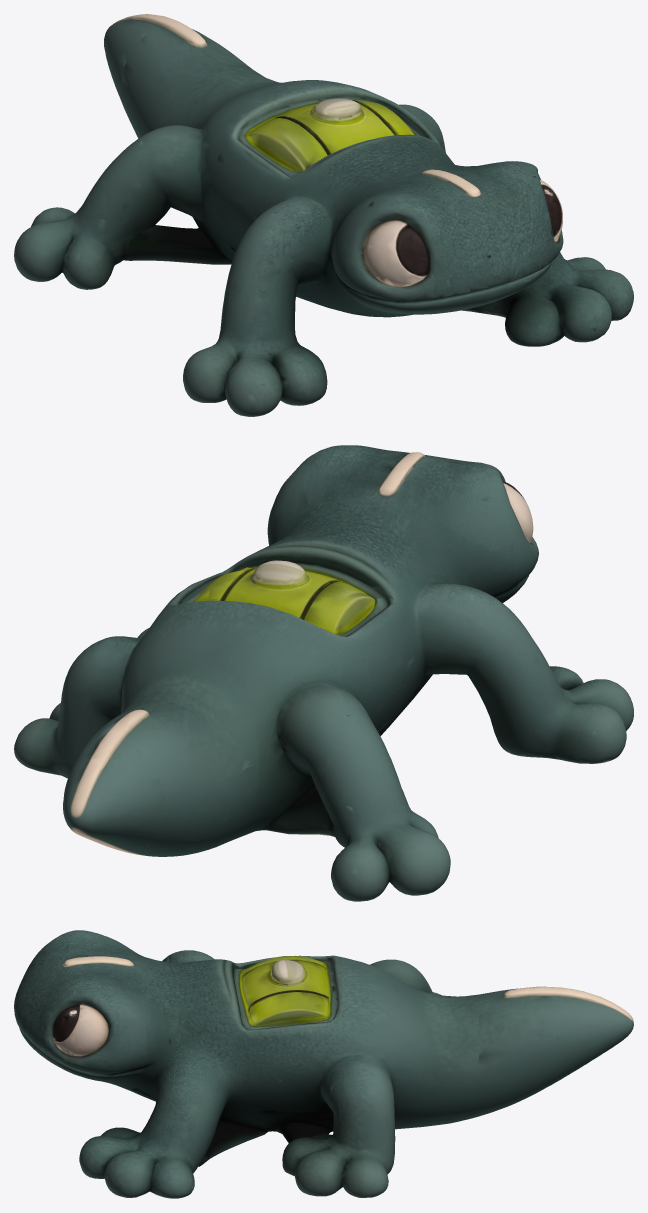
File: game.glb
3 renders of one model, top to bottom at view 1: azimuth 30°, elevation 25°; view 2: azimuth 150°, elevation 25°; view 3: azimuth 270°, elevation 25°, orthographic. The views are drawn at different scales.
Visible parts, largest first — view 1: Mesh_0; view 2: Mesh_0; view 3: Mesh_0.
Boxes of the visible parts, x1,y1,x2,y2 form: Mesh_0: (14, 14, 633, 416); Mesh_0: (14, 445, 633, 901); Mesh_0: (14, 930, 633, 1198).
Bounding box in the file's own units: 1.05 × 0.4572 × 1.55.
Materials: 1 (1 with a texture image).
